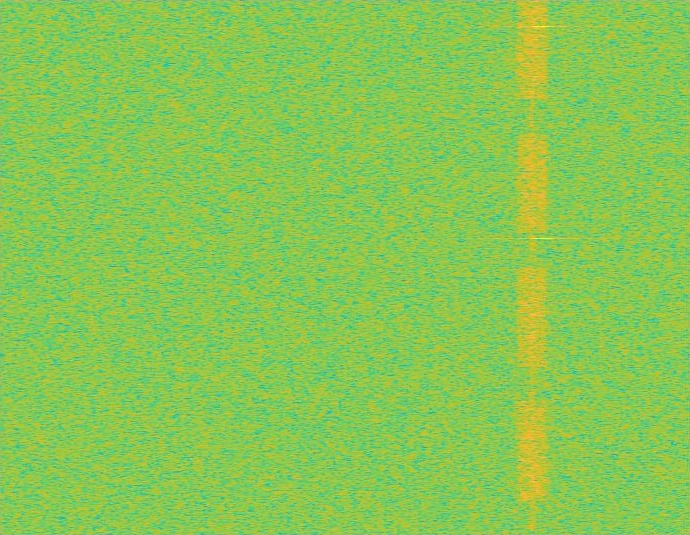5G: (515, 0, 550, 534)
DSSS: (530, 0, 535, 534)
Radar: (536, 0, 549, 534)
